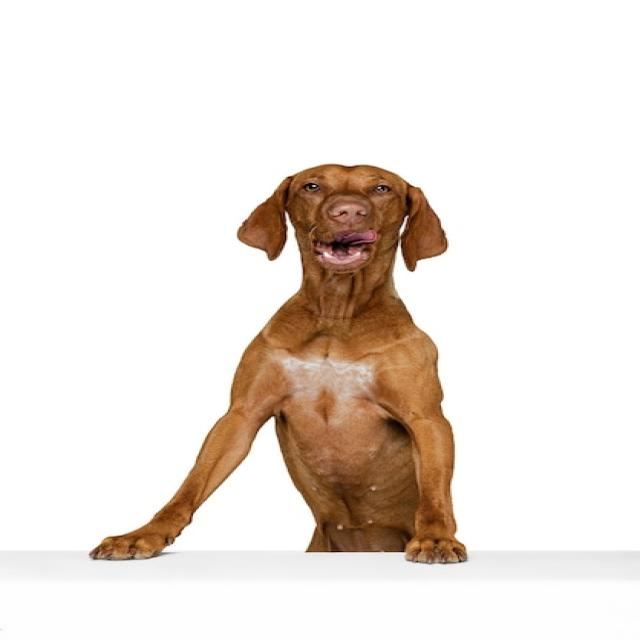Dog: (84, 164, 469, 564)
